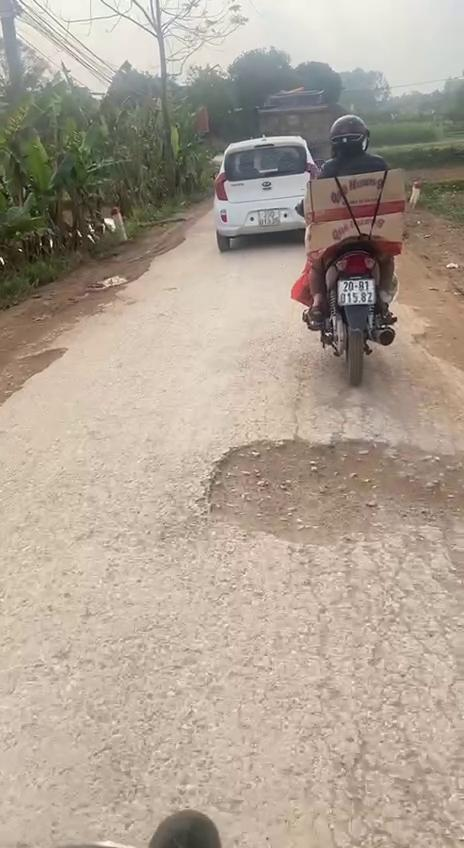pothole: (198, 435, 464, 550), (0, 342, 73, 414)
